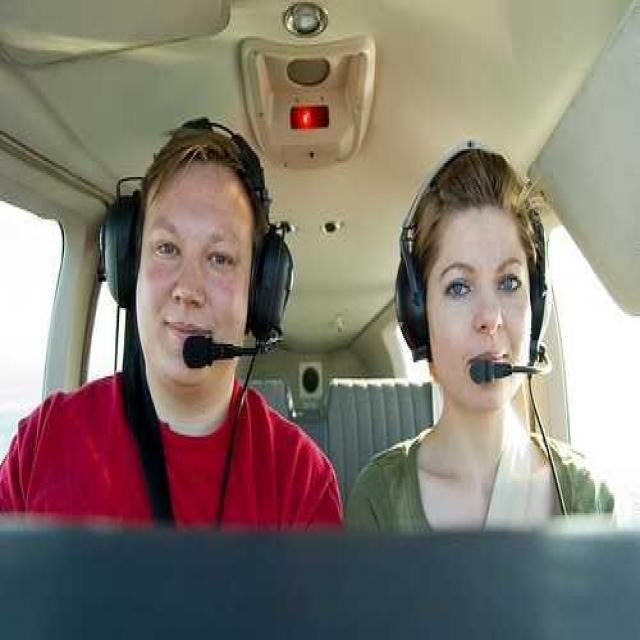seatbelt: (118, 332, 176, 517), (474, 416, 540, 556)
